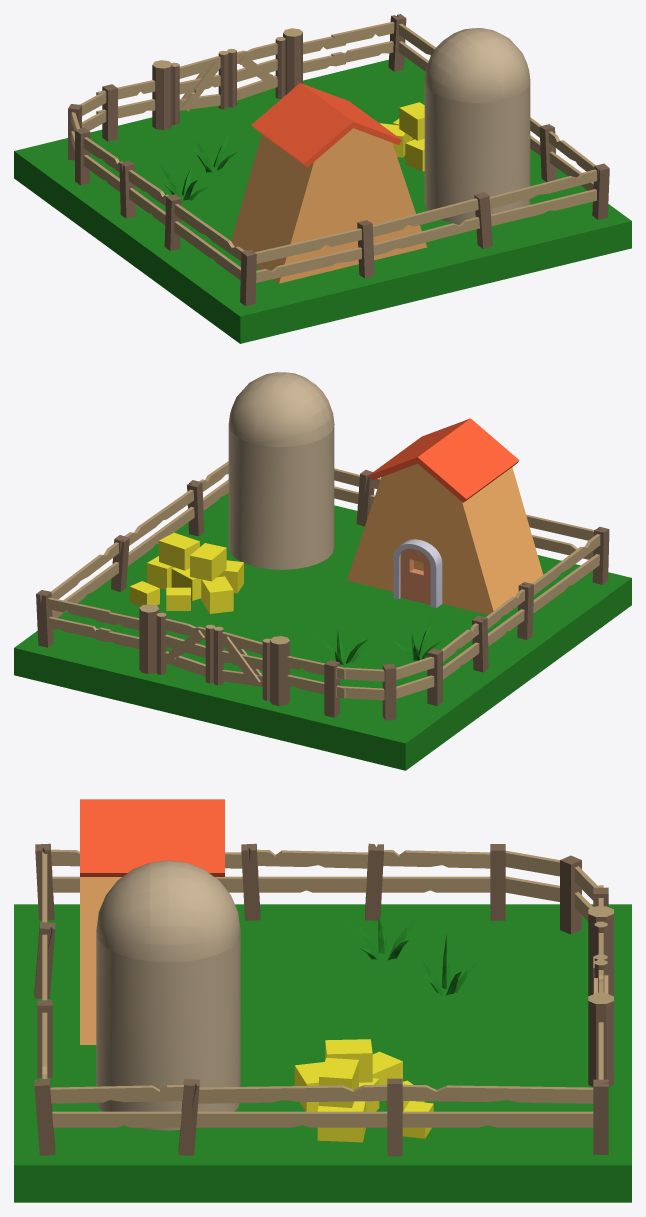
The model's file is farm.fbx.
3 renders of one model, top to bottom at view 1: azimuth 30°, elevation 25°; view 2: azimuth 150°, elevation 25°; view 3: azimuth 270°, elevation 25°, orthographic. The views are drawn at different scales.
Parts seen in each view (by area): view 1: building_windmill_438, cylinder_full_443, Grass_Flat_6, Grass_Flat_3, Grass_Flat_8, Grass_Flat_2, Grass_Flat_7, sphere_dome_444, Grass_Flat_4, Grass_Flat_5, Prop_Fence_Gate_2_412, Prop_Fence_Gate_1_413 (+25 smaller); view 2: building_windmill_438, cylinder_full_443, Grass_Flat_3, Grass_Flat_0, Grass_Flat_5, Grass_Flat_2, Grass_Flat_4, sphere_dome_444, debris_bricks_440, Grass_Flat_6, Prop_Fence_Curve_1x1_417, Prop_Fence_Gate_2_412 (+23 smaller); view 3: cylinder_full_443, Grass_Flat_5, Grass_Flat_8, Grass_Flat_4, Grass_Flat_1, Grass_Flat_2, Grass_Flat_3, building_windmill_438, Grass_Flat_0, sphere_dome_444, Prop_Fence_Boards_1_420, Prop_Fence_Boards_1_422 (+21 smaller).
Boxes of the visible parts, <box> form: building_windmill_438: <box>231,83,427,283</box>; cylinder_full_443: <box>424,81,530,224</box>; Grass_Flat_6: <box>164,247,370,343</box>; Grass_Flat_3: <box>14,119,219,232</box>; Grass_Flat_8: <box>471,168,631,279</box>; Grass_Flat_2: <box>89,174,244,288</box>; Grass_Flat_7: <box>347,198,501,311</box>; sphere_dome_444: <box>424,28,530,102</box>; Grass_Flat_4: <box>145,87,280,174</box>; Grass_Flat_5: <box>303,57,425,124</box>; Prop_Fence_Gate_2_412: <box>152,50,228,129</box>; Prop_Fence_Gate_1_413: <box>227,28,302,107</box>; building_windmill_438: <box>347,418,543,614</box>; cylinder_full_443: <box>228,425,334,569</box>; Grass_Flat_3: <box>275,658,481,770</box>; Grass_Flat_0: <box>220,569,422,655</box>; Grass_Flat_5: <box>14,593,219,706</box>; Grass_Flat_2: <box>355,603,556,715</box>; Grass_Flat_4: <box>144,624,348,738</box>; sphere_dome_444: <box>228,372,334,446</box>; debris_bricks_440: <box>129,532,243,613</box>; Grass_Flat_6: <box>441,555,631,659</box>; Prop_Fence_Curve_1x1_417: <box>324,648,442,720</box>; Prop_Fence_Gate_2_412: <box>213,626,289,705</box>; cylinder_full_443: <box>96,933,240,1130</box>; Grass_Flat_5: <box>426,1078,631,1202</box>; Grass_Flat_8: <box>14,1078,219,1202</box>; Grass_Flat_4: <box>426,991,631,1078</box>; Grass_Flat_1: <box>220,1078,425,1202</box>; Grass_Flat_2: <box>235,904,425,991</box>; Grass_Flat_3: <box>426,904,631,991</box>; building_windmill_438: <box>80,799,224,1044</box>; Grass_Flat_0: <box>240,991,425,1078</box>; sphere_dome_444: <box>96,860,240,962</box>; Prop_Fence_Boards_1_420: <box>402,1084,593,1127</box>; Prop_Fence_Boards_1_422: <box>196,1084,387,1127</box>.
Size of the model in its own units: 30 by 14.5 by 30.
